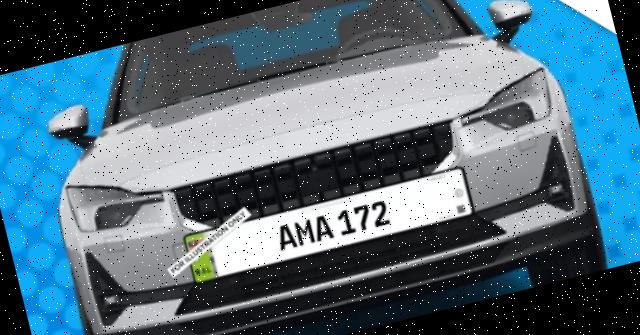License_Plate: (187, 159, 475, 292)
